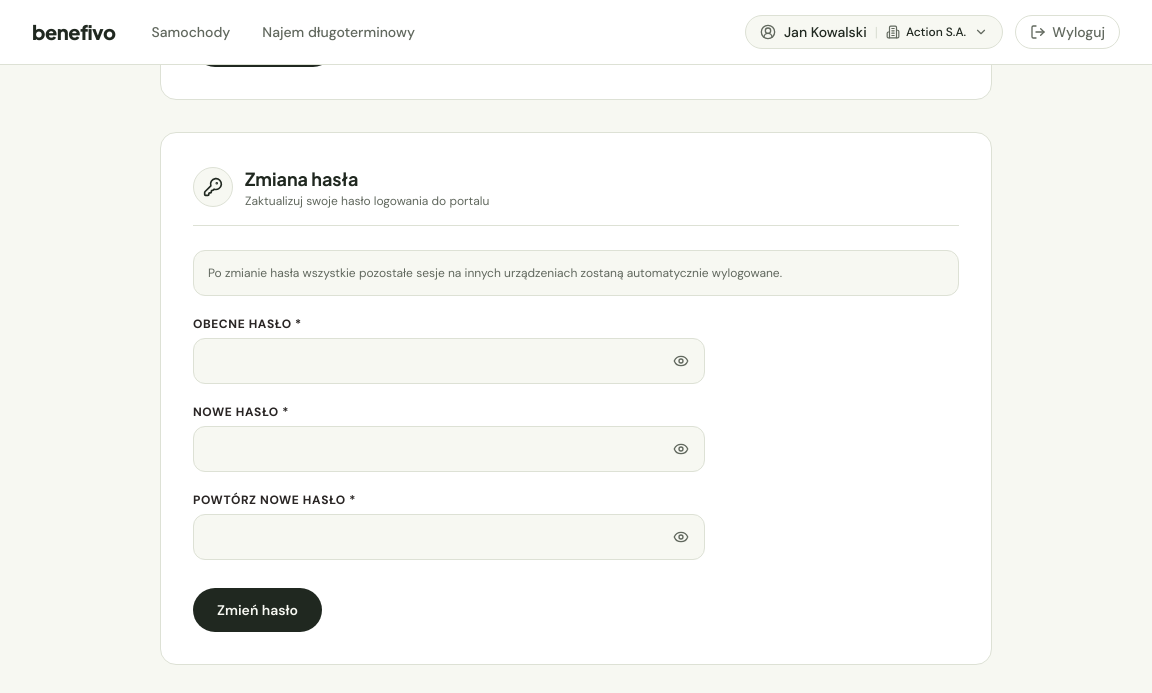
Test: AccountPage Component › displays error message when password change fails from API
(page scrolled)
Expected: the heading "Zmiana hasła" is shown, top-left (245, 166), bottom-right (358, 190)
Type "WrongOldPassword!" into the password field labelled "Obecne hasło *".
click(449, 360); type("WrongOldPassword!")  # box top-left (193, 338), bottom-right (705, 384)
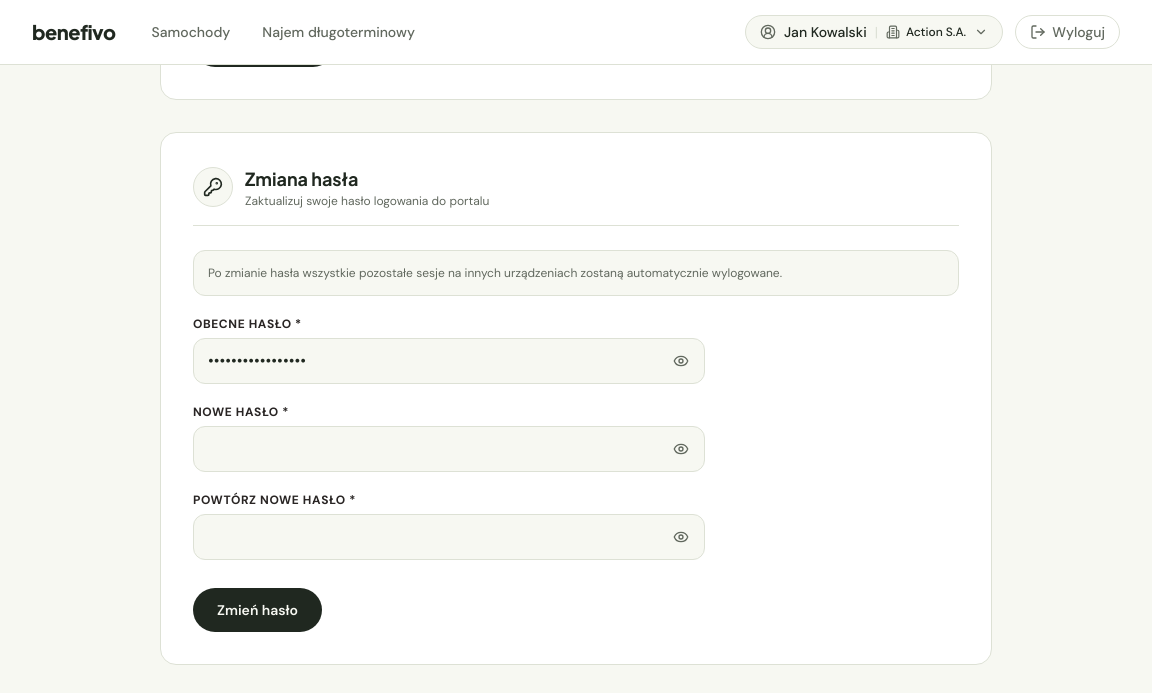
Type "NewSuperPassword123!" into the password field labelled "Nowe hasło *".
click(449, 448); type("NewSuperPassword123!")  # box top-left (193, 426), bottom-right (705, 472)
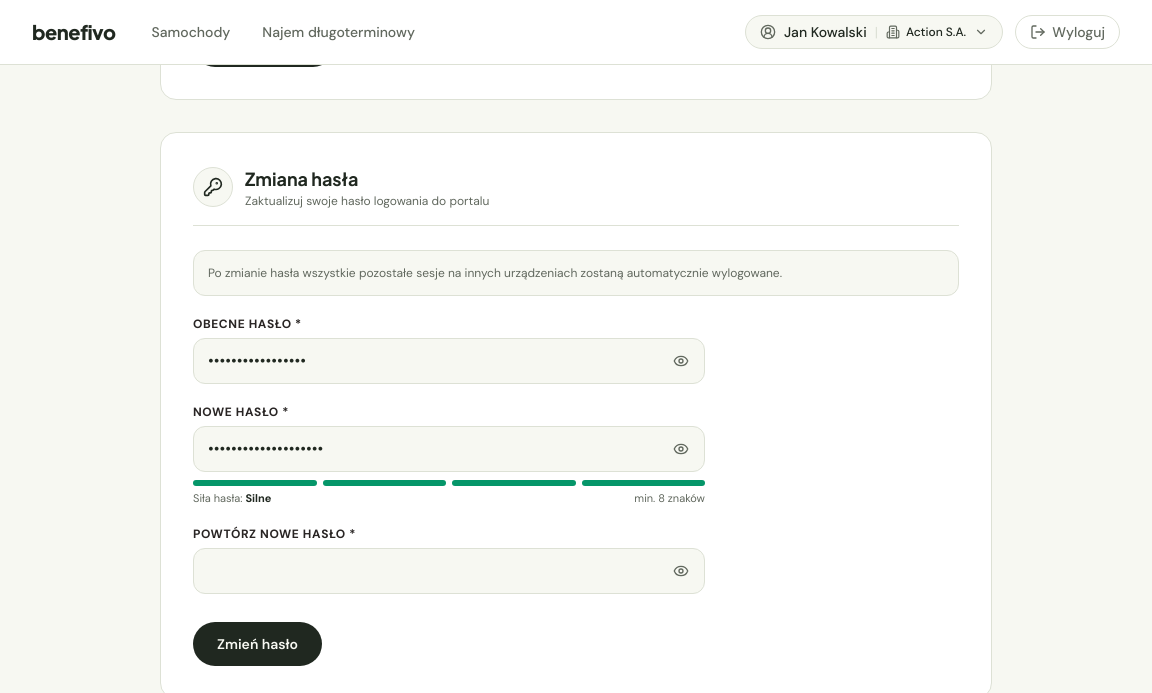
Type "NewSuperPassword123!" into the password field labelled "Powtórz nowe hasło *".
click(449, 571); type("NewSuperPassword123!")  # box top-left (193, 548), bottom-right (705, 594)
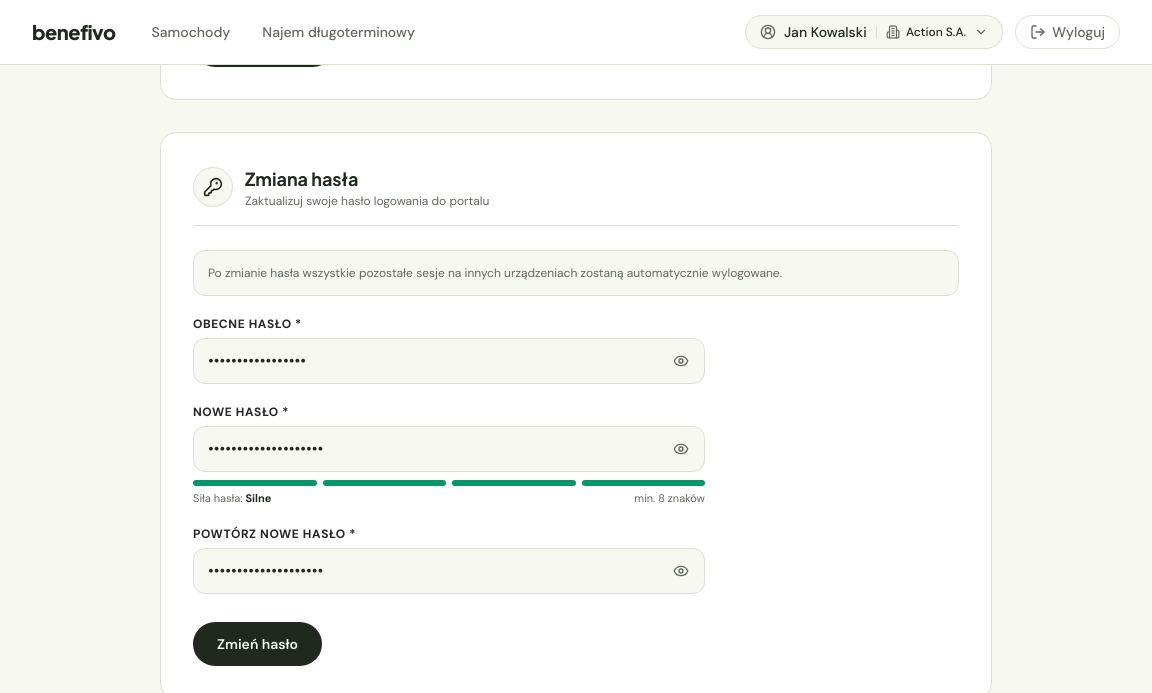
Click the button "Zmień hasło".
click(258, 644)  # box top-left (193, 622), bottom-right (322, 666)
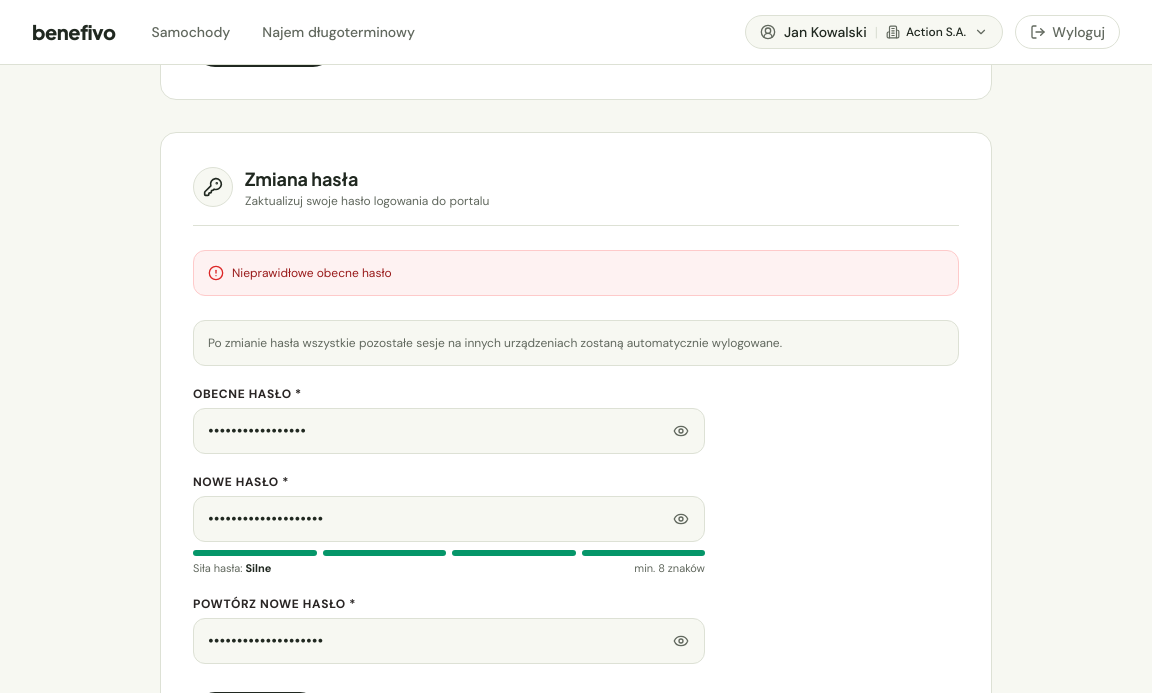
Now the text "Nieprawidłowe obecne hasło" is shown, box top-left (232, 264), bottom-right (392, 280)
